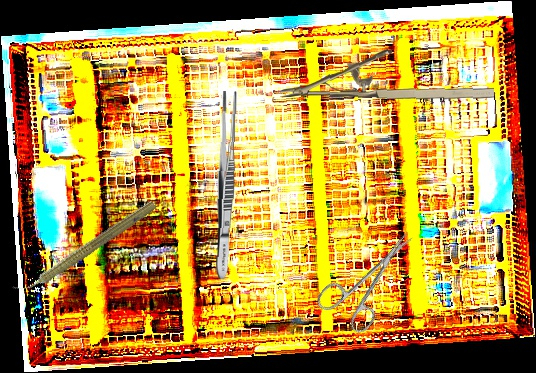Dressing Forceps: (212, 90, 239, 280)
Handpiece: (11, 194, 159, 303)
Iris Scissors: (312, 216, 434, 341)
Needle Holder: (279, 45, 496, 105)
